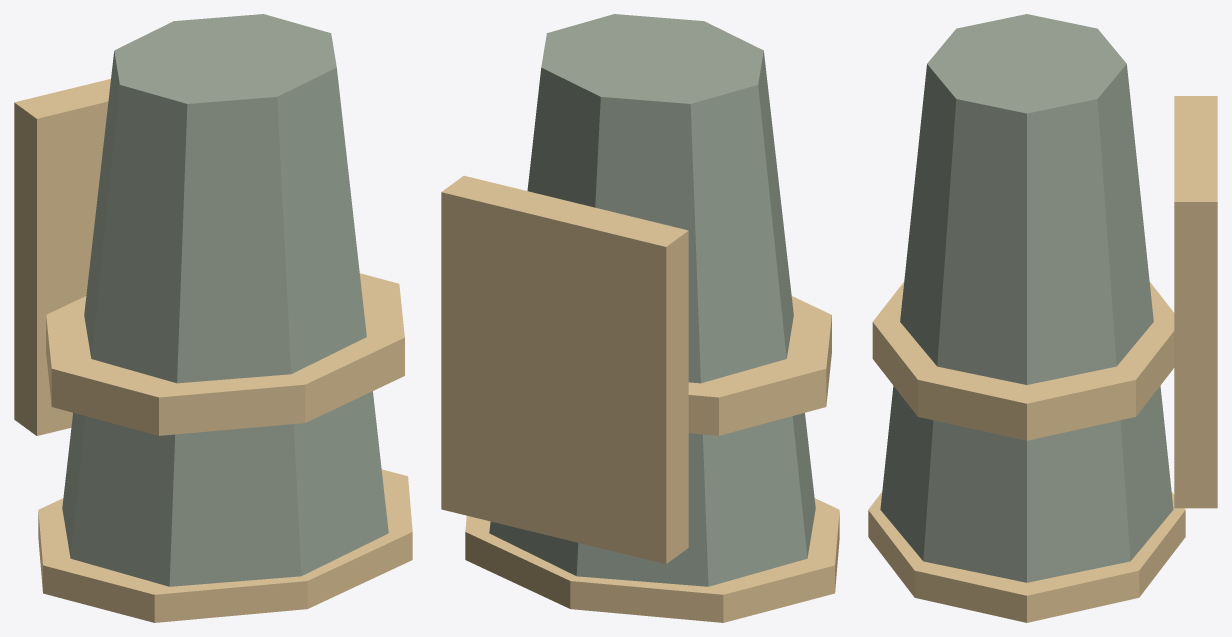
File: npc_torso_03.glb
3 renders of one model, left to right at view 1: azimuth 30°, elevation 25°; view 2: azimuth 150°, elevation 25°; view 3: azimuth 270°, elevation 25°, orthographic. The views are drawn at different scales.
Parts seen in each view (by area): view 1: npc_torso_03; view 2: npc_torso_03; view 3: npc_torso_03.
Boxes of the visible parts, x1,y1,x2,y2 form: npc_torso_03: [14, 14, 412, 622]; npc_torso_03: [441, 14, 839, 622]; npc_torso_03: [868, 14, 1217, 622].
Size of the model in its own units: 0.7466 by 0.965 by 0.6412.
